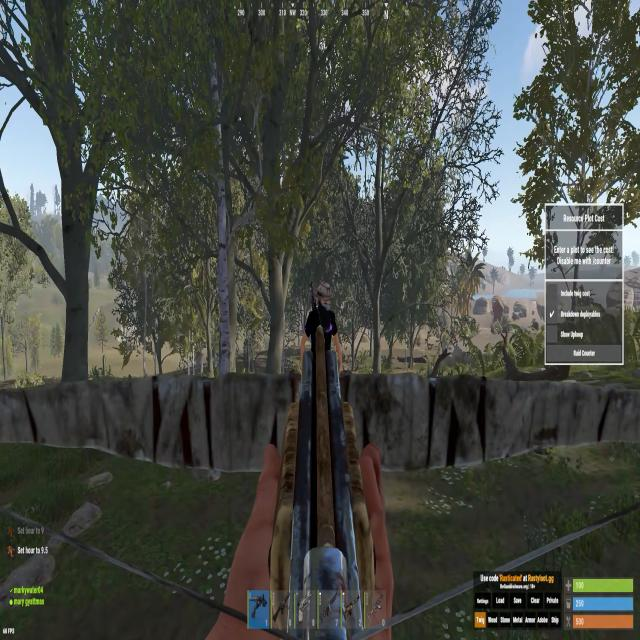Player: (300, 281, 345, 374)
